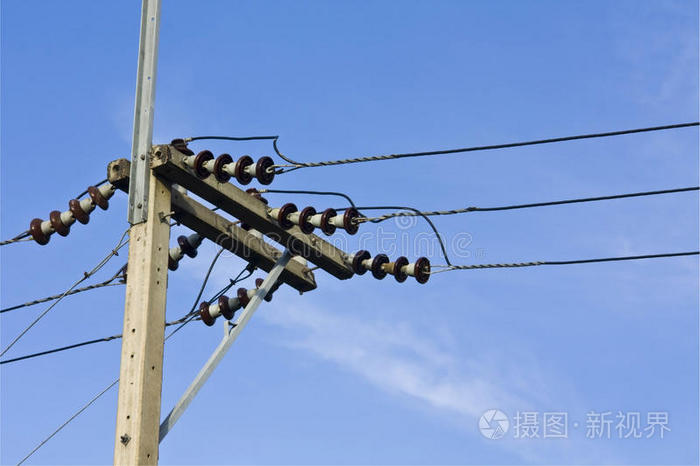insulator: (31, 186, 106, 244), (198, 278, 267, 326), (192, 149, 279, 185), (351, 249, 430, 288), (278, 200, 360, 234)
